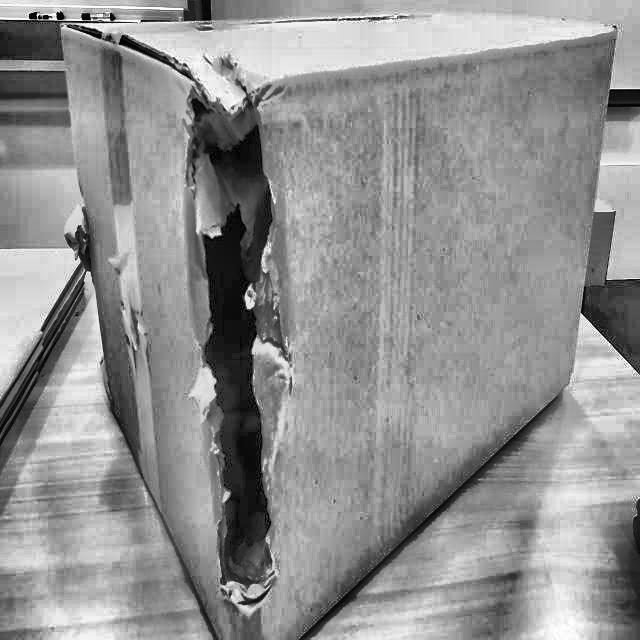box: (46, 5, 633, 639)
hole: (175, 68, 295, 604)
